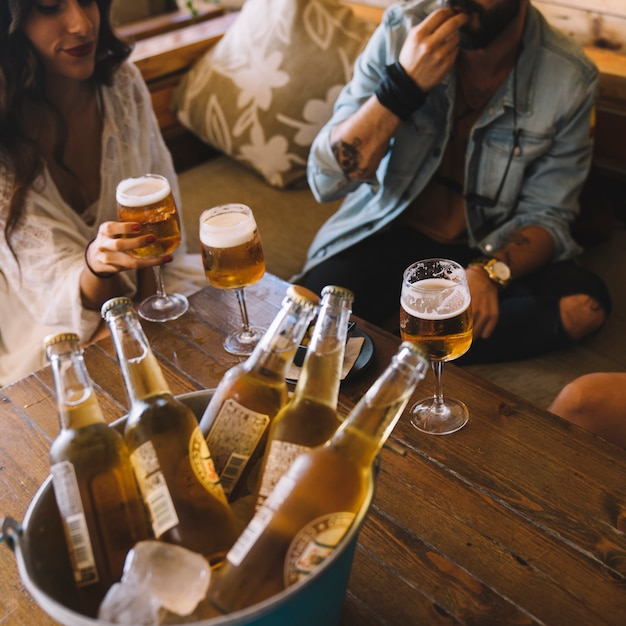alcohol: (205, 343, 432, 612), (98, 298, 252, 565), (40, 329, 151, 607), (199, 284, 321, 502), (257, 284, 356, 514), (198, 203, 303, 357), (399, 260, 474, 438), (107, 172, 193, 324)
